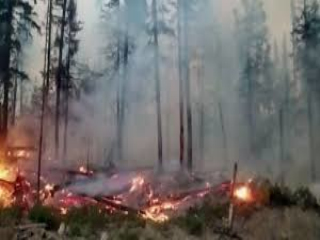fire: (2, 158, 101, 213), (128, 173, 181, 230), (229, 183, 255, 204)
smoke: (98, 40, 290, 171)
